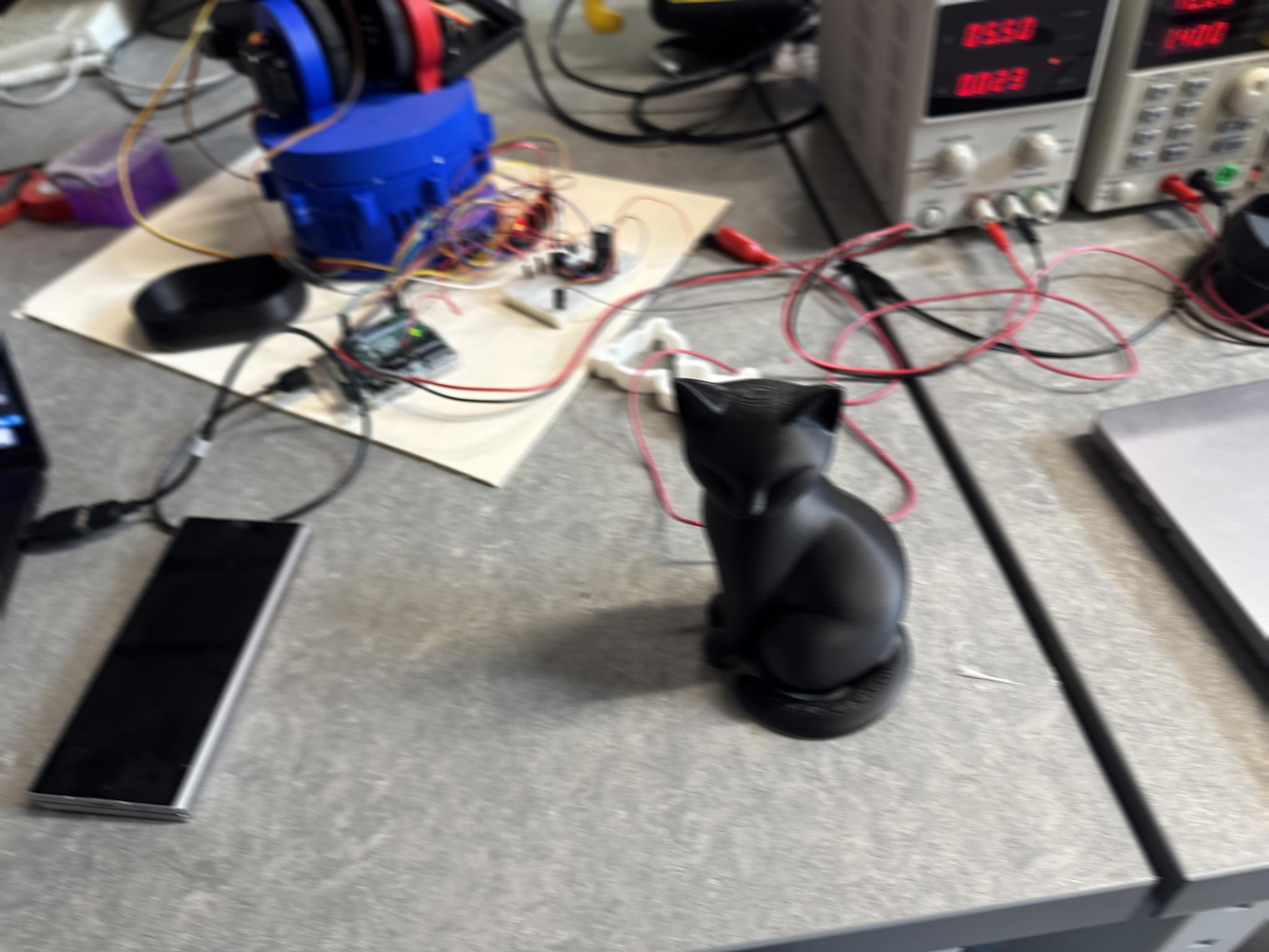cat: (630, 377, 913, 739), (672, 378, 913, 738)
